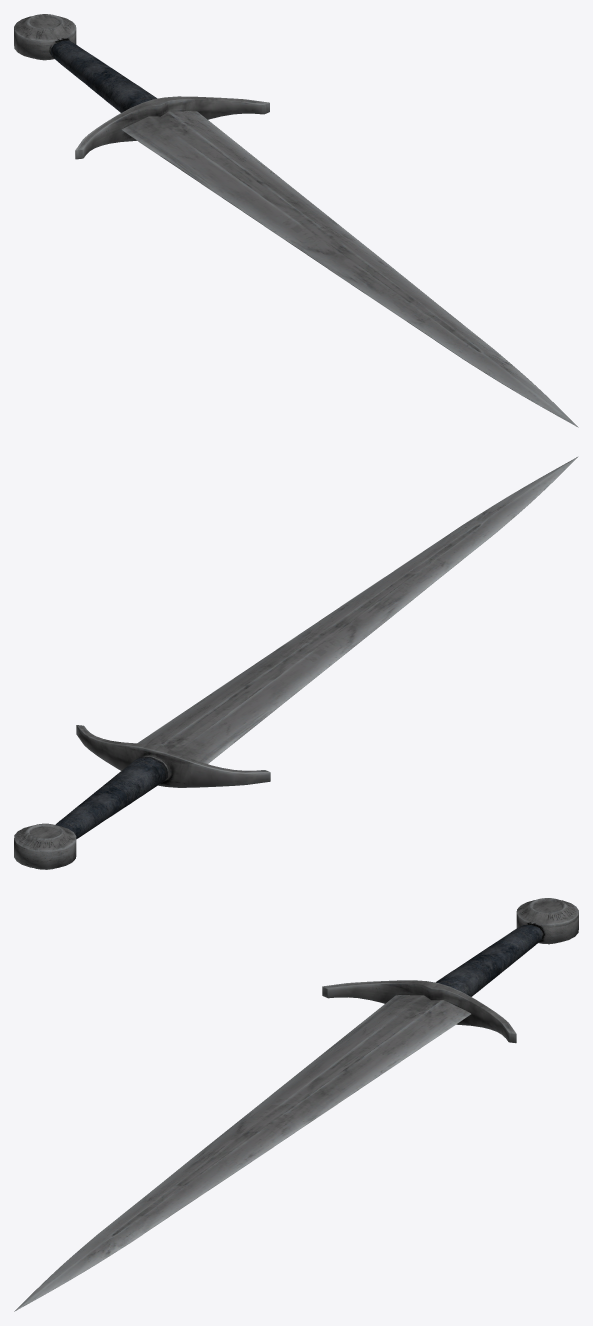
3 views of the same model, one above another, from view 1: azimuth 30°, elevation 25°; view 2: azimuth 150°, elevation 25°; view 3: azimuth 330°, elevation 25° (orthographic).
Parts seen in each view (by area): view 1: WP_A_0201; view 2: WP_A_0201; view 3: WP_A_0201.
Boxes of the visible parts, x1=… form: WP_A_0201: x1=14, y1=14, x2=578, y2=427; WP_A_0201: x1=14, y1=456, x2=578, y2=869; WP_A_0201: x1=14, y1=898, x2=578, y2=1311.
Bounding box in the file's own units: 20.84 × 3.52 × 102.
1 material, 1 textured.
